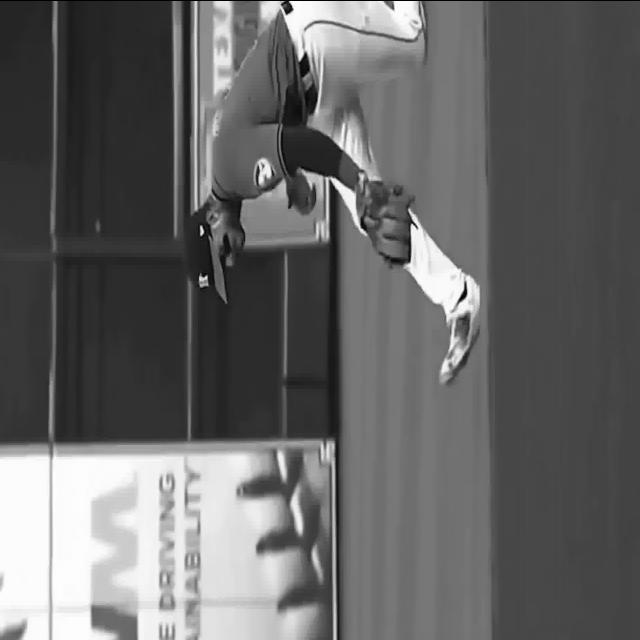baseball_glove: (356, 171, 411, 264)
shoe: (439, 273, 480, 384)
